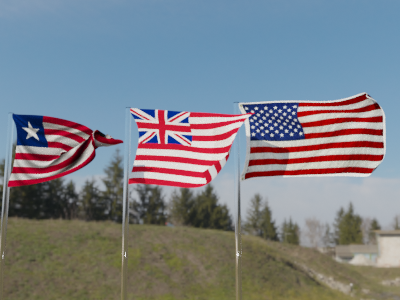America flag: (241, 90, 389, 189)
Liberia flag: (10, 111, 123, 187)
Malaysia flag: (131, 103, 249, 193)
